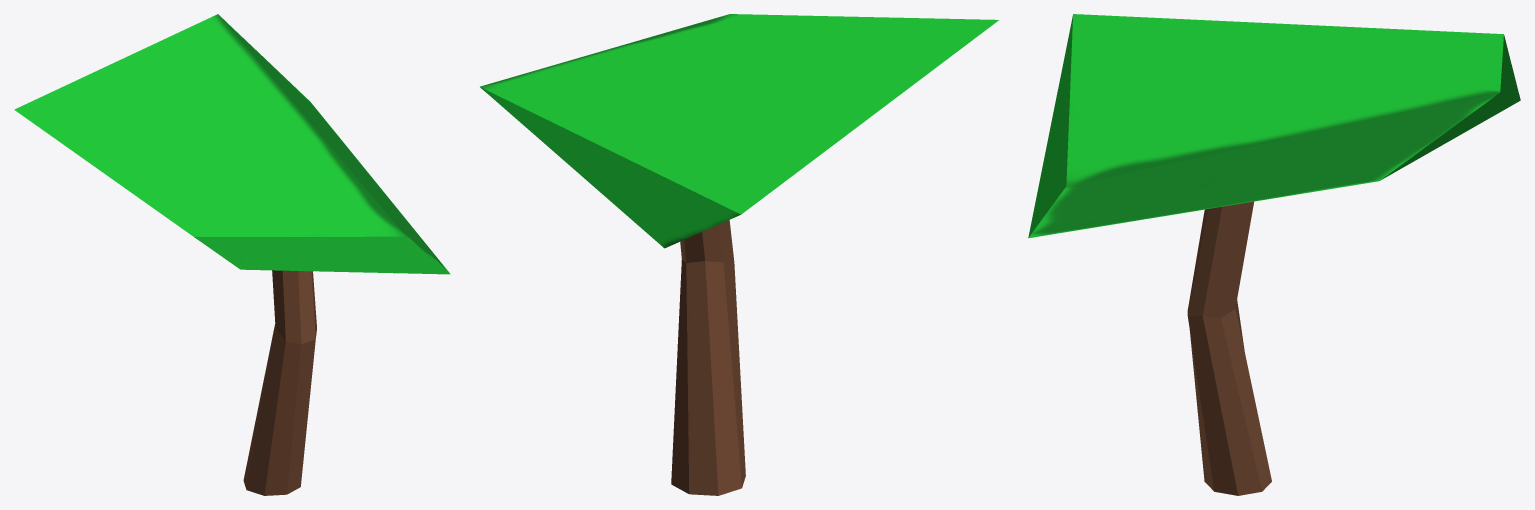
The model's file is tree1.obj.
The picture shows the model from 3 angles, left to right: view 1: azimuth 30°, elevation 25°; view 2: azimuth 150°, elevation 25°; view 3: azimuth 270°, elevation 25°; orthographic projection. The views are drawn at different scales.
Parts seen in each view (by area): view 1: Cube_Cube.001, Cylinder; view 2: Cube_Cube.001, Cylinder; view 3: Cube_Cube.001, Cylinder.
Part boxes in pixels (bbox=[...]): Cube_Cube.001: bbox=[14, 14, 450, 274]; Cylinder: bbox=[243, 270, 316, 495]; Cube_Cube.001: bbox=[480, 14, 998, 248]; Cylinder: bbox=[671, 220, 745, 495]; Cube_Cube.001: bbox=[1028, 14, 1520, 238]; Cylinder: bbox=[1187, 201, 1271, 495].
Size of the model in its own units: 2.44 by 3.45 by 3.64.
Materials: 2 (2 with a texture image).
